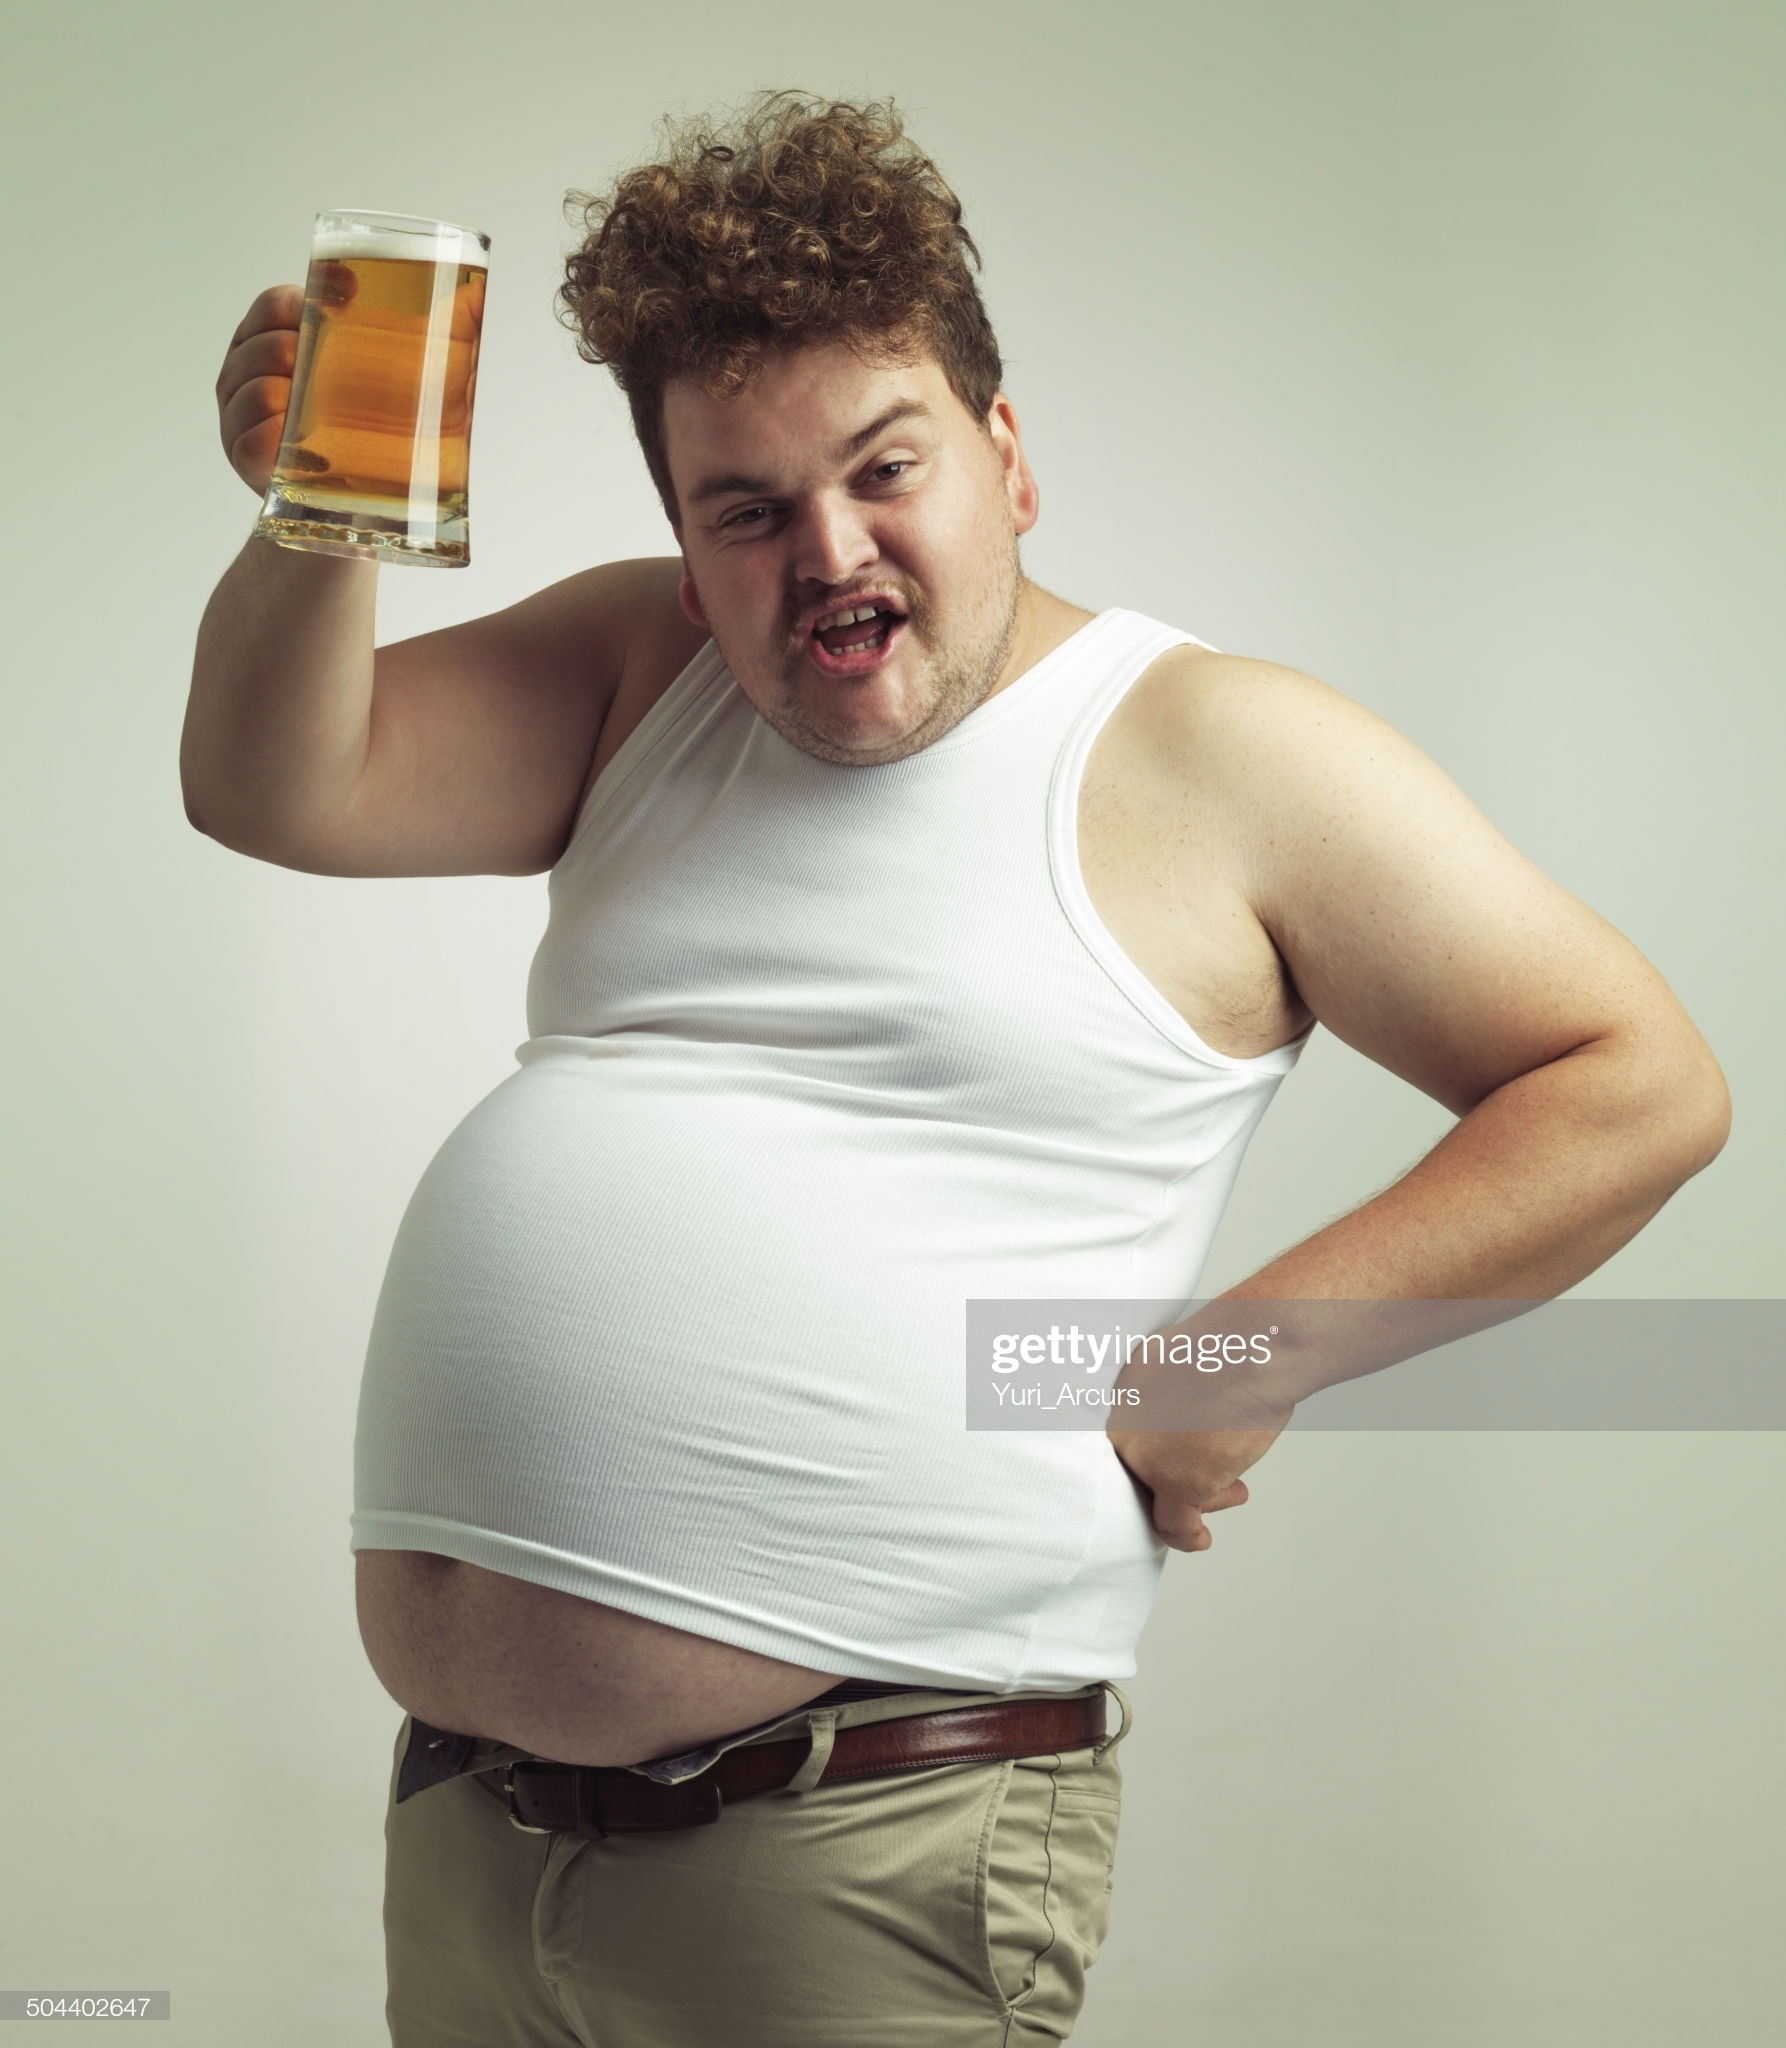glassBeer: (291, 228, 510, 568)
